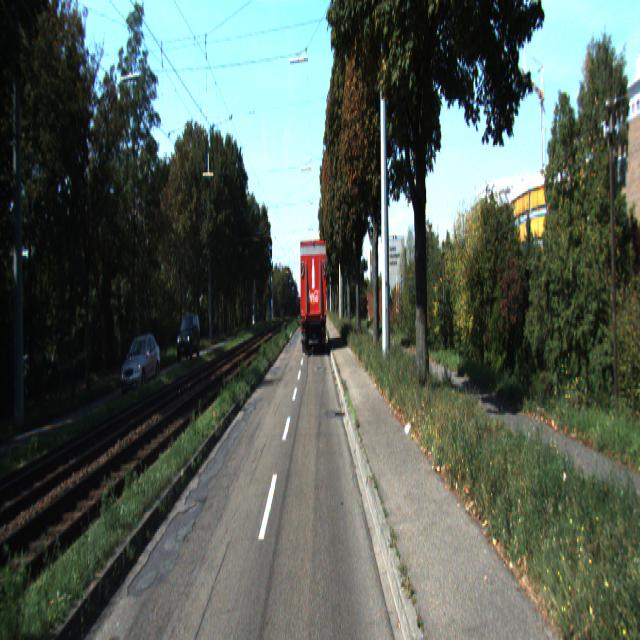Car: (298, 238, 328, 358), (118, 330, 162, 399), (176, 314, 201, 364)
